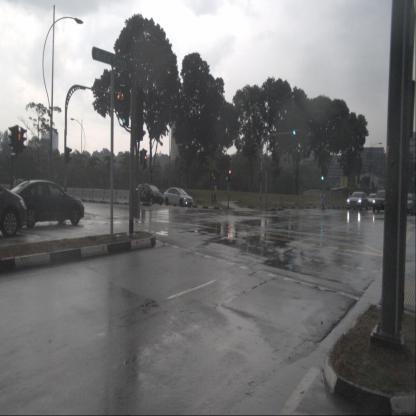vehicle-car: (4, 180, 85, 228), (0, 181, 28, 238), (134, 184, 164, 205), (163, 188, 193, 208), (347, 192, 369, 212), (372, 191, 390, 213), (402, 193, 415, 217), (13, 179, 29, 194), (366, 194, 380, 210)
